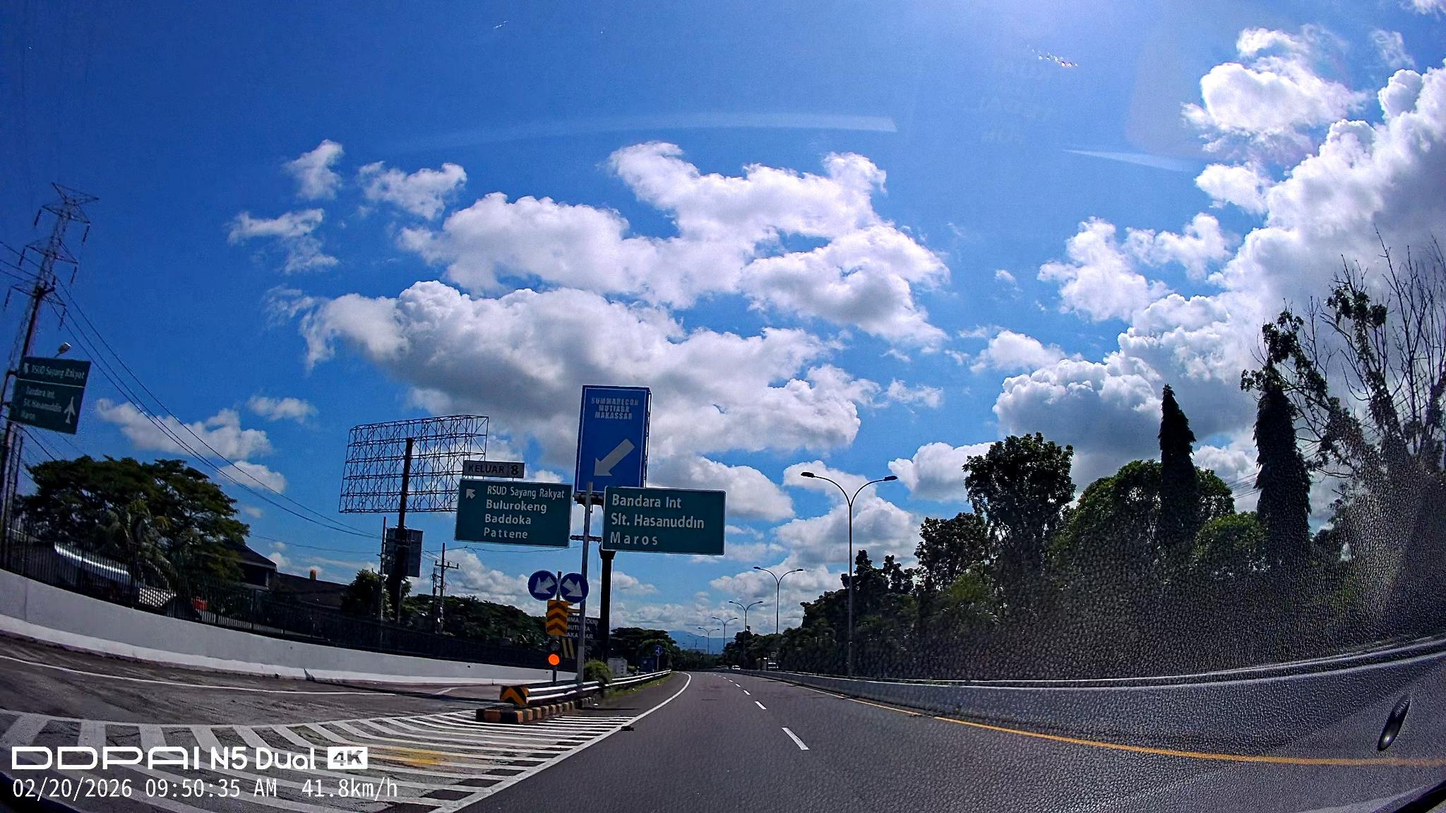rambu_teks: (601, 484, 727, 557), (454, 478, 574, 549)
